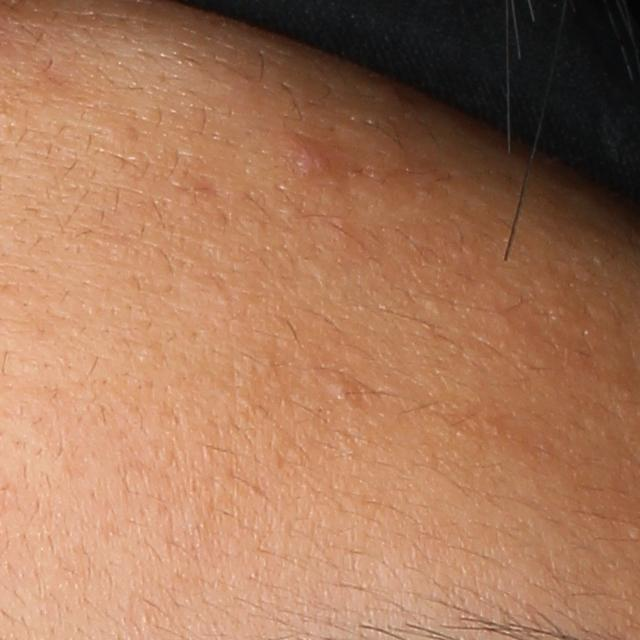comedo: (326, 377, 361, 404)
papule: (287, 130, 339, 183)
